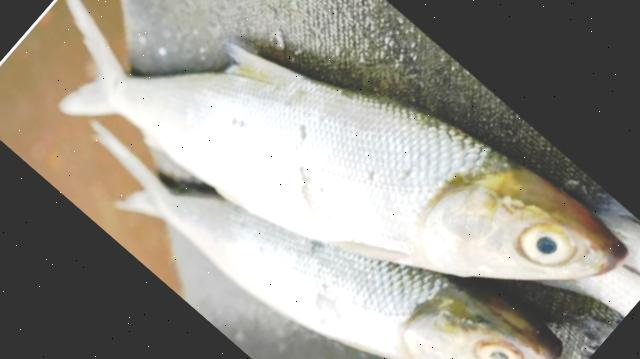Healthy Fish: (63, 40, 631, 280), (115, 137, 564, 359)
